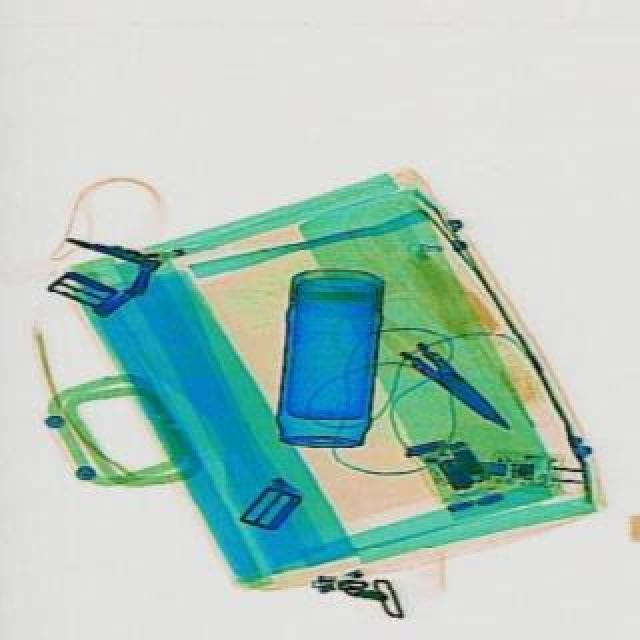knife: (394, 334, 518, 438)
